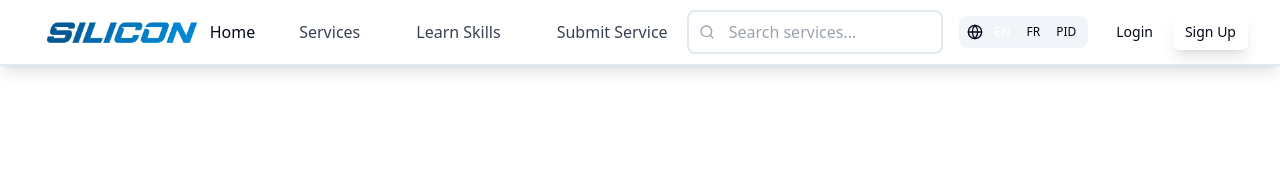
Test: Navbar Component › filters suggestions based on name, category, description, location
The width and height of the screenshot is (1280, 190).
In the field with placeholder "Search services...": (815, 32) [687,10,943,54], type "Tech"
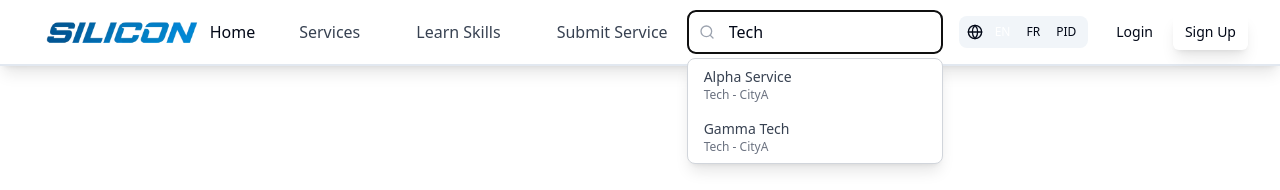
Result: the list item "Alpha Service" is shown at [704,67,792,86]
Result: the list item "Gamma Tech" is shown at [704,119,790,138]
Result: the number of list items is 2 at [704,67,792,103]; [704,119,790,155]
Replace the text in the field with placeholder "Search services..." with "CityA": (815, 32) [687,10,943,54]
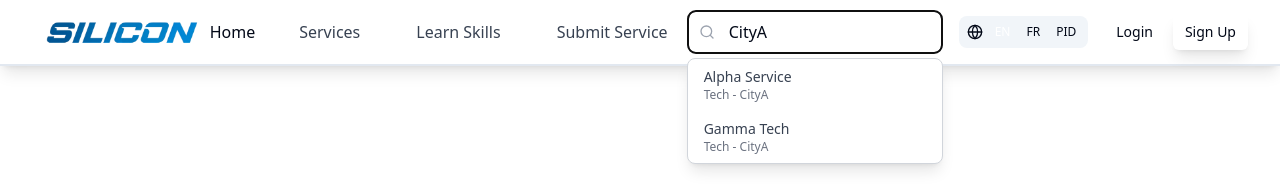
Expected: the list item "Alpha Service" is shown, [704,67,792,86]
Expected: the list item "Gamma Tech" is shown, [704,119,790,138]
Replace the text in the field with placeholder "Search services..." with "Beta desc": (815, 32) [687,10,943,54]
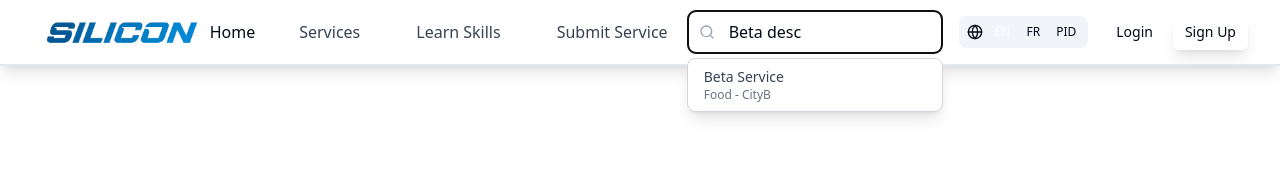
Result: the list item "Beta Service" is shown at [704,67,784,86]
Result: the number of list items is 1 at [704,67,784,103]
